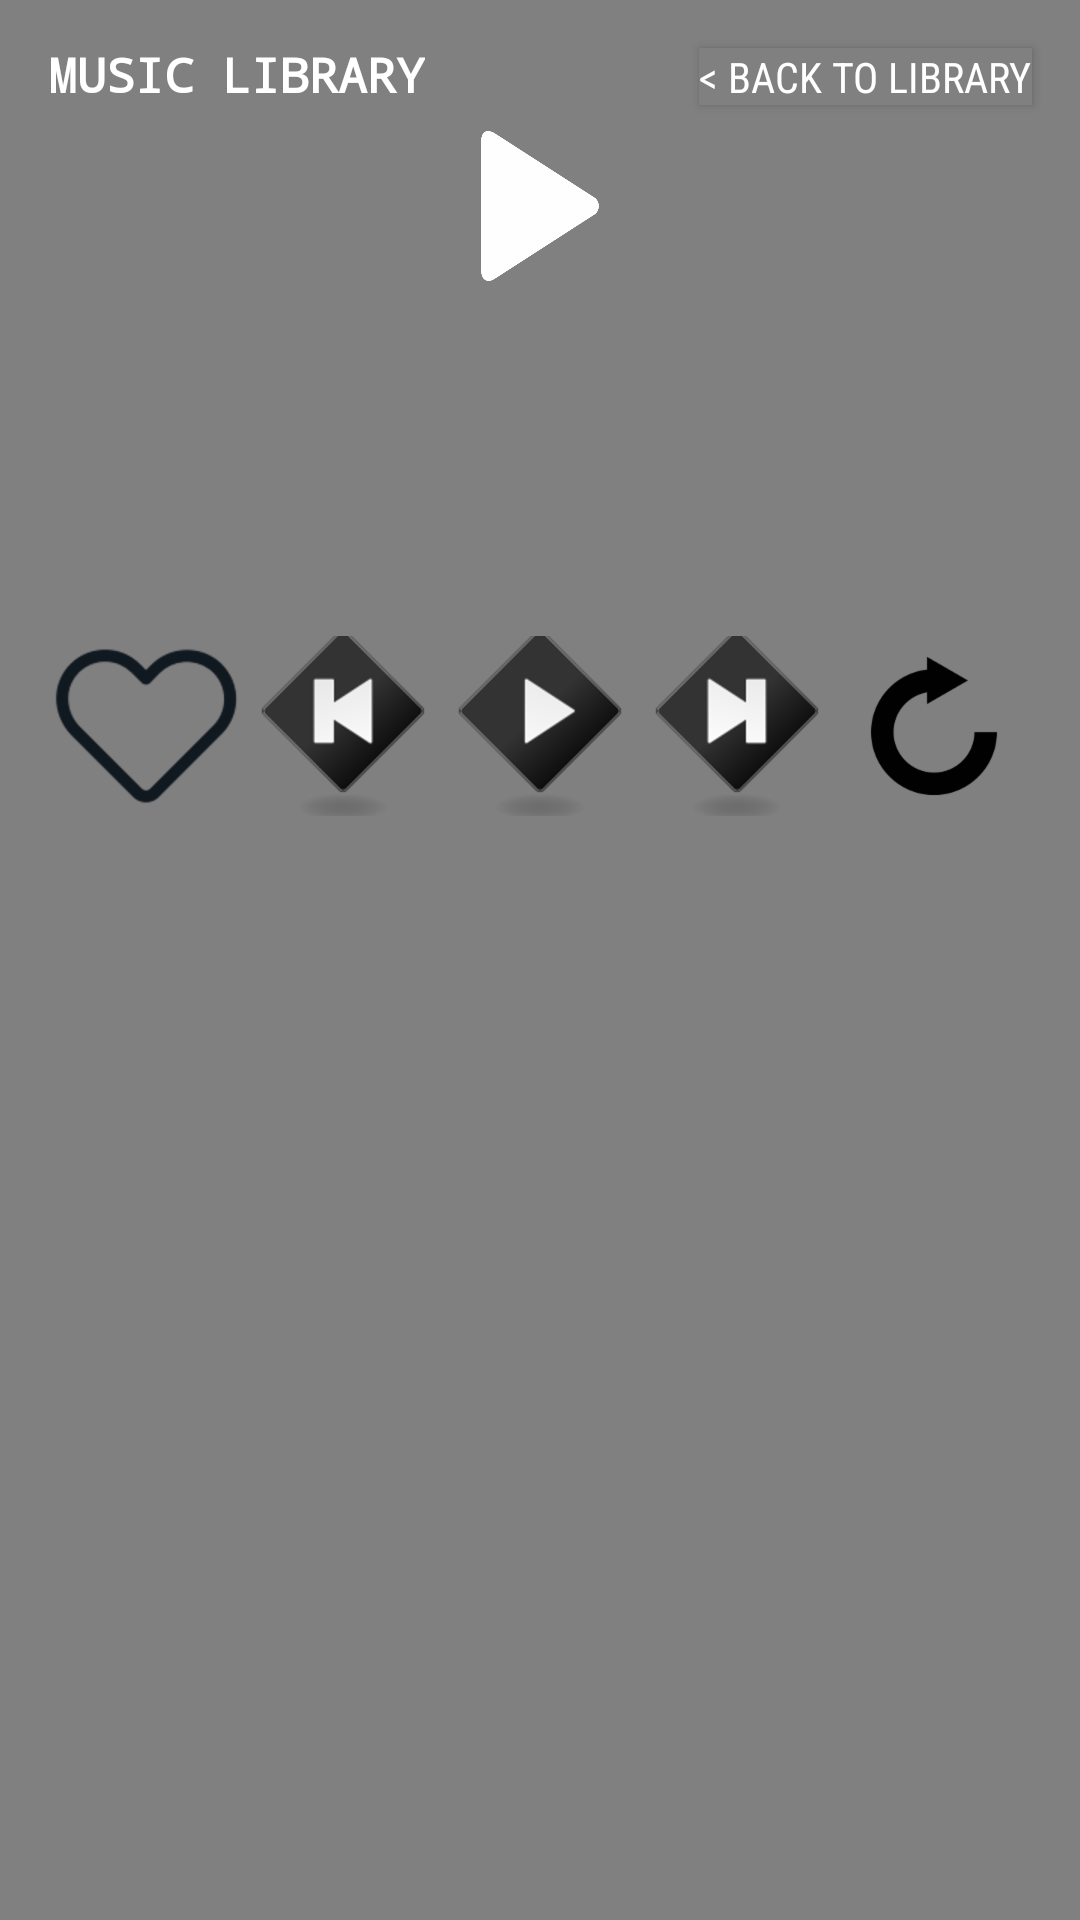

Icons on this 1080 x 1920 Android screen, each with the point to tap as [x,y]:
backward: [343,714]
forward: [737,714]
heart: [146,726]
play: [540,206], [540,714]
replay: [934,726]
